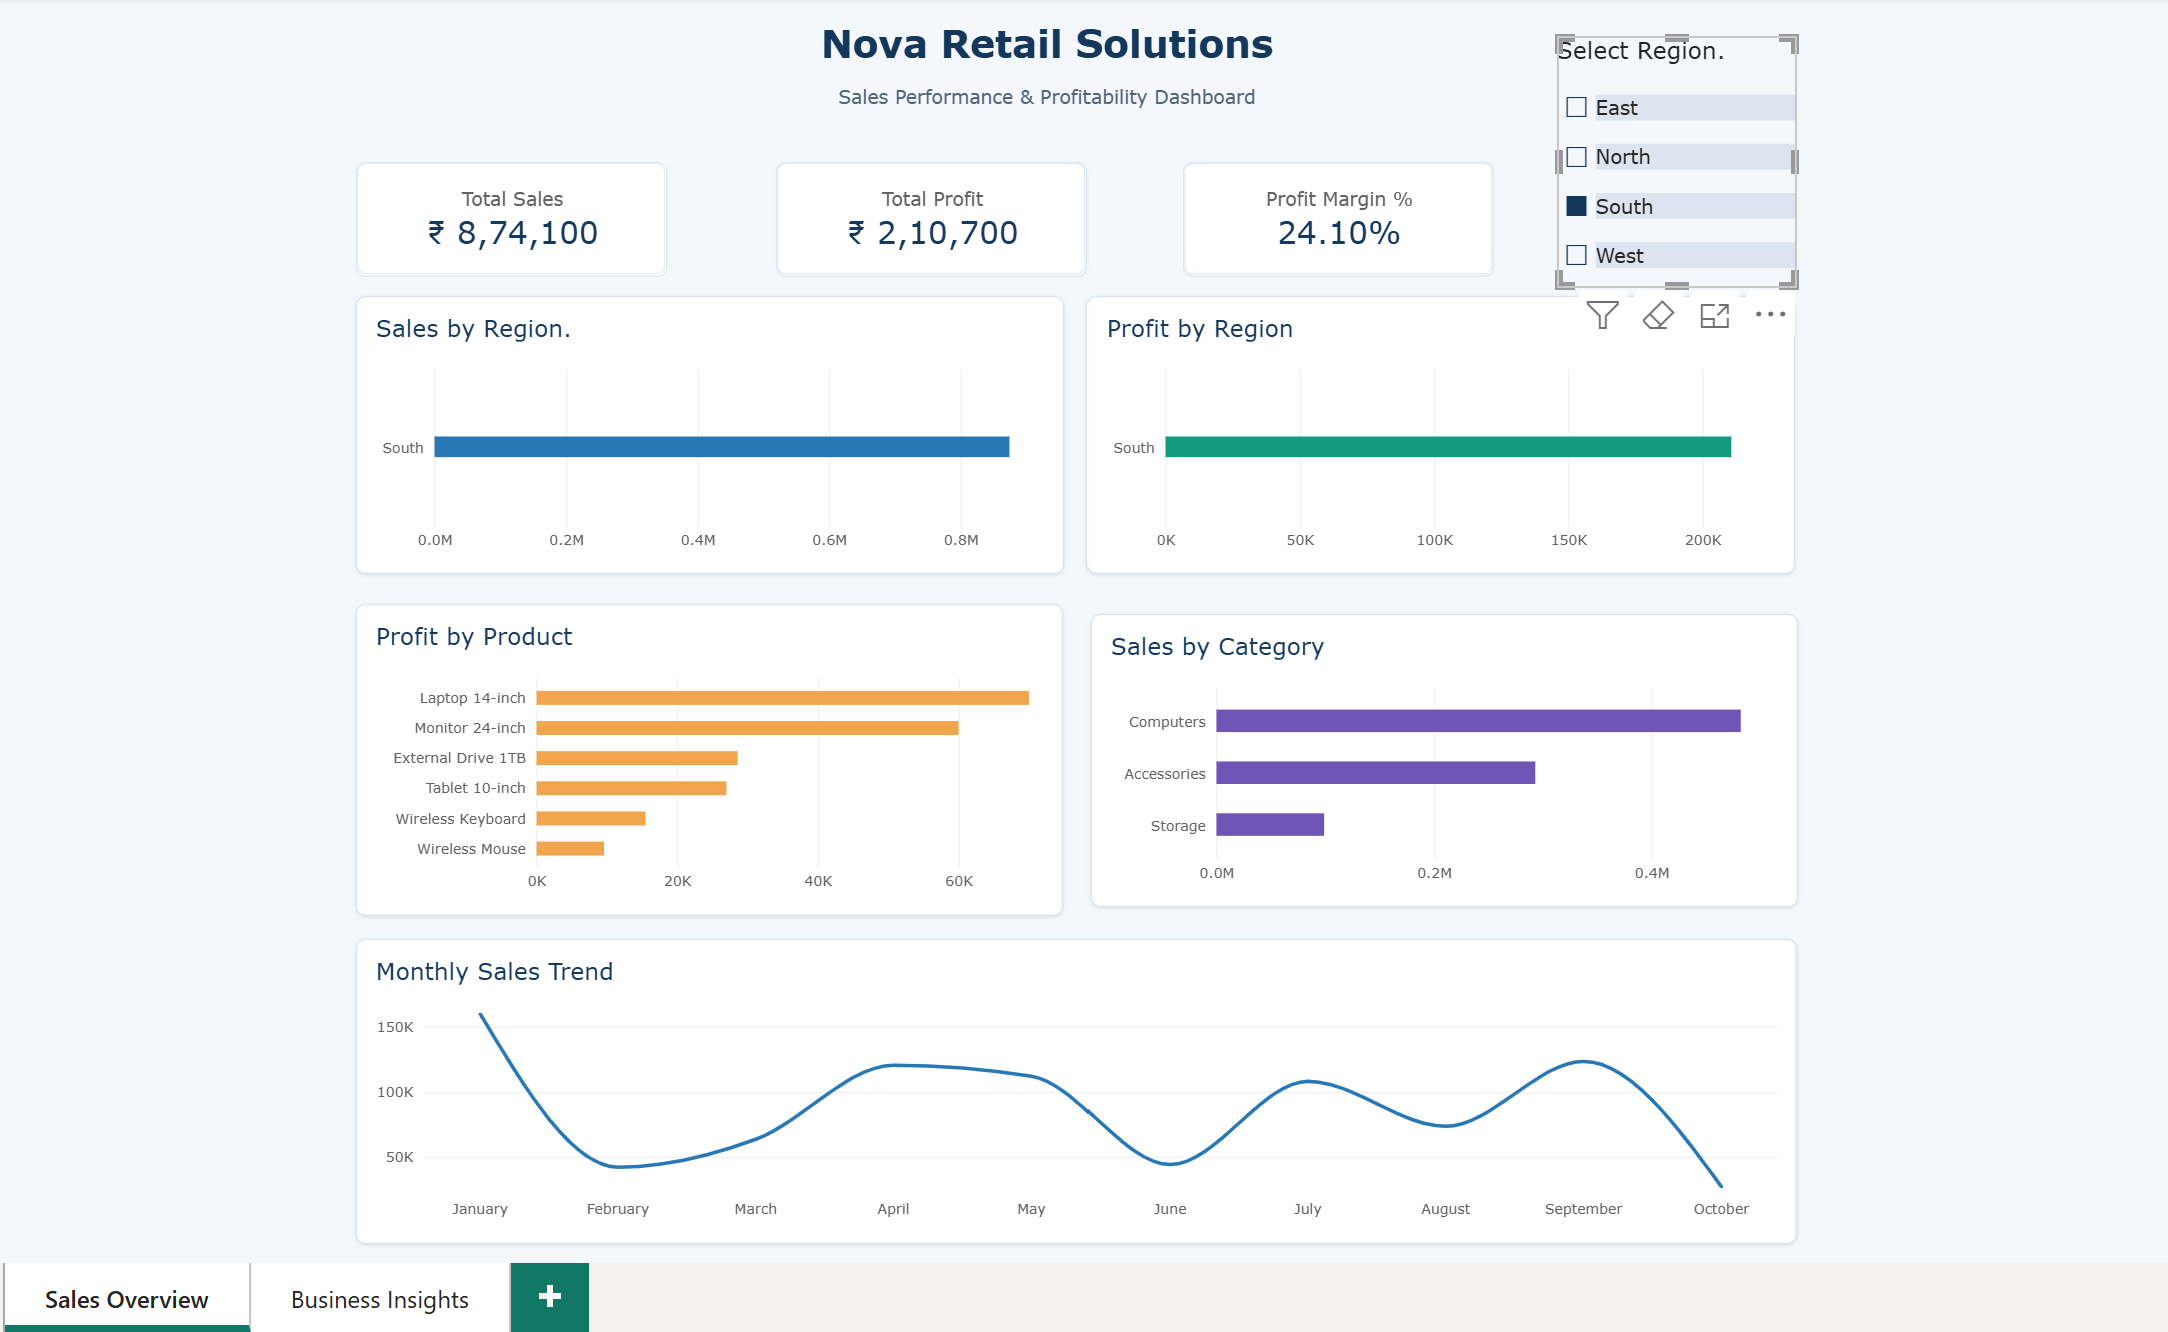

What the dashboard file says about the page in this screenshot:
{"tool":"powerbi","page":{"name":"Sales Overview","canvas":[1920,1080],"ordinal":0},"visuals":[{"type":"cardVisual","fields":{"Data":["SalesData.Total Profit"]},"box":[730.7,141.3,265.6,97.8],"z":0},{"type":"cardVisual","fields":{"Data":["SalesData.Total Sales"]},"box":[371.8,141,265.6,97.8],"z":1000},{"type":"cardVisual","fields":{"Data":["SalesData.Profit Margin %"]},"box":[1076.9,141,265.6,97.8],"z":2000},{"type":"clusteredBarChart","title":"Sales by Region.","fields":{"Category":["SalesData.Region"],"Y":["Sum(SalesData.SalesINR)"]},"box":[371.2,256.6,604,237],"z":3000},{"type":"clusteredBarChart","title":"Profit by Product","fields":{"Category":["SalesData.ProductName"],"Y":["Sum(SalesData.ProfitINR)"]},"box":[371.2,518.6,603,265],"z":4000},{"type":"lineChart","title":"Monthly Sales Trend","fields":{"Category":["SalesData.OrderDate.Variation.Date Hierarchy.Month"],"Y":["Sum(SalesData.SalesINR)"]},"box":[371.2,803.6,1228,260],"z":5000},{"type":"slicer","title":"Select Region.","fields":{"Values":["SalesData.Region"]},"box":[1395.6,33.8,204.4,214.7],"z":6000},{"type":"clusteredBarChart","title":"Sales by Category","fields":{"Category":["SalesData.Category"],"Y":["Sum(SalesData.SalesINR)"]},"box":[997.4,526.9,603,249],"z":7000},{"type":"clusteredBarChart","title":"Profit by Region","fields":{"Category":["SalesData.Region"],"Y":["Sum(SalesData.ProfitINR)"]},"box":[995.2,256.6,604,237],"z":8000},{"type":"textbox","box":[760.3,20.6,400,97.1],"z":9000}]}

Visuals, with their boxes on the page's 1920x1080 design canvas (x1, y1, x2, y2). These are canvas units, not pixel positions in the 2168x1332 screenshot, which may show the page scaled, cropped or inside an application window:
cardVisual - SalesData.Total Profit: bbox=(731, 141, 996, 239)
cardVisual - SalesData.Total Sales: bbox=(372, 141, 637, 239)
cardVisual - SalesData.Profit Margin %: bbox=(1077, 141, 1342, 239)
"Sales by Region." clusteredBarChart: bbox=(371, 257, 975, 494)
"Profit by Product" clusteredBarChart: bbox=(371, 519, 974, 784)
"Monthly Sales Trend" lineChart: bbox=(371, 804, 1599, 1064)
"Select Region." slicer: bbox=(1396, 34, 1600, 248)
"Sales by Category" clusteredBarChart: bbox=(997, 527, 1600, 776)
"Profit by Region" clusteredBarChart: bbox=(995, 257, 1599, 494)
textbox: bbox=(760, 21, 1160, 118)
